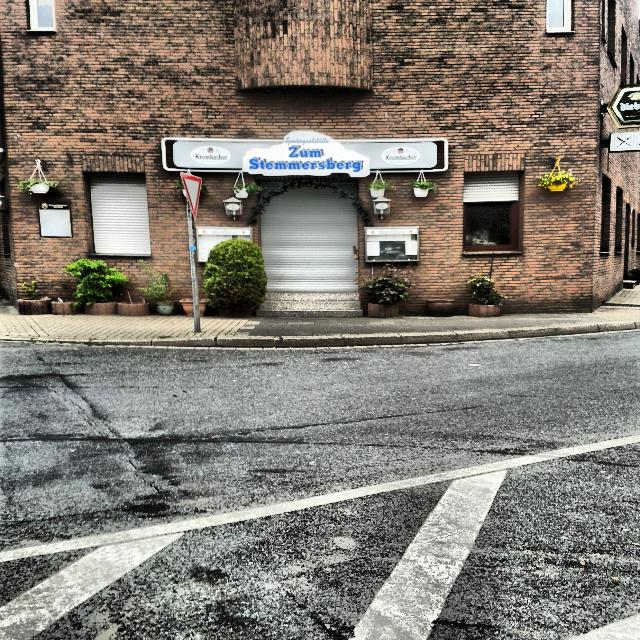escada: (253, 291, 364, 317)
